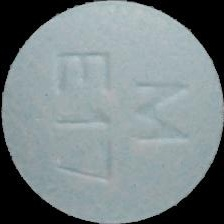67046-158: (0, 0, 224, 224)
